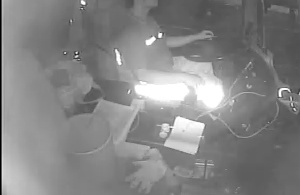paper: (162, 112, 205, 158)
